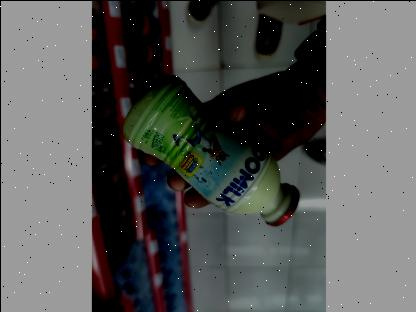Others: (108, 73, 302, 231)
